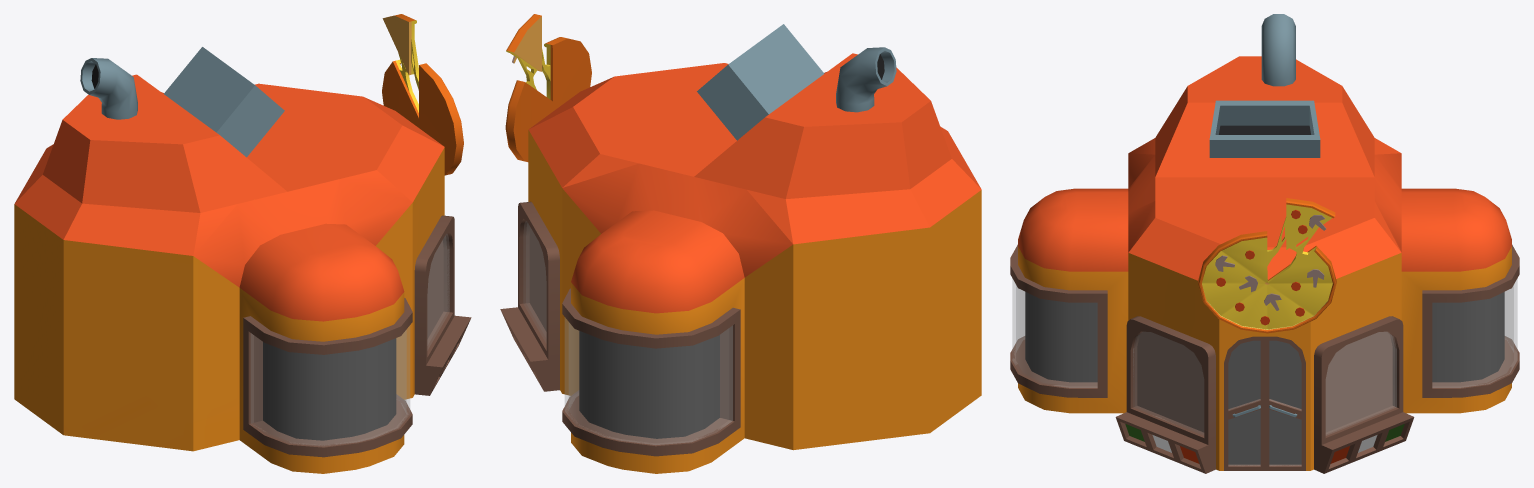
The model's file is Pizzeria.fbx.
The picture shows the model from 3 angles, left to right: view 1: azimuth 30°, elevation 25°; view 2: azimuth 150°, elevation 25°; view 3: azimuth 270°, elevation 25°; orthographic projection. The views are drawn at different scales.
Visible parts, largest first — view 1: Pizzeria, Glass, Frames, Pizza, Pipe, Glass.003; view 2: Pizzeria, Glass, Frames, Pizza, Pipe, Glass.003; view 3: Pizzeria, Frames, Glass, Pizza, Glass.003, Glass.002, Door, Glass.001, Pipe.
Part boxes in pixels (<box>): Pizzeria: <box>14,47,444,473</box>; Glass: <box>251,326,409,445</box>; Frames: <box>414,215,471,395</box>; Pizza: <box>382,14,463,175</box>; Pipe: <box>80,58,137,119</box>; Glass.003: <box>427,234,449,348</box>; Pizzeria: <box>528,24,981,473</box>; Glass: <box>565,318,732,444</box>; Frames: <box>500,201,559,391</box>; Pizza: <box>505,14,591,161</box>; Pipe: <box>836,47,896,112</box>; Glass.003: <box>524,221,546,341</box>; Pizzeria: <box>1010,56,1519,470</box>; Frames: <box>1115,316,1414,473</box>; Glass: <box>1012,279,1517,387</box>; Pizza: <box>1198,198,1336,333</box>; Glass.003: <box>1133,332,1396,435</box>; Glass.002: <box>1228,341,1301,410</box>; Door: <box>1224,336,1305,470</box>; Glass.001: <box>1228,410,1301,465</box>; Pipe: <box>1261,14,1295,86</box>.
Bounding box in the file's own units: 1663 × 1349 × 1993.
Materials: 2 (1 with a texture image).
